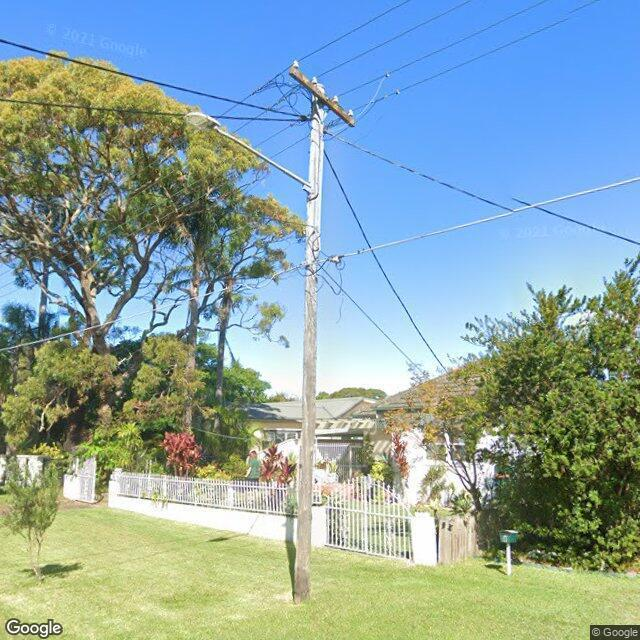crossarm: (287, 60, 356, 126)
streetlight: (184, 110, 316, 195)
timber-pole: (292, 83, 326, 605)
